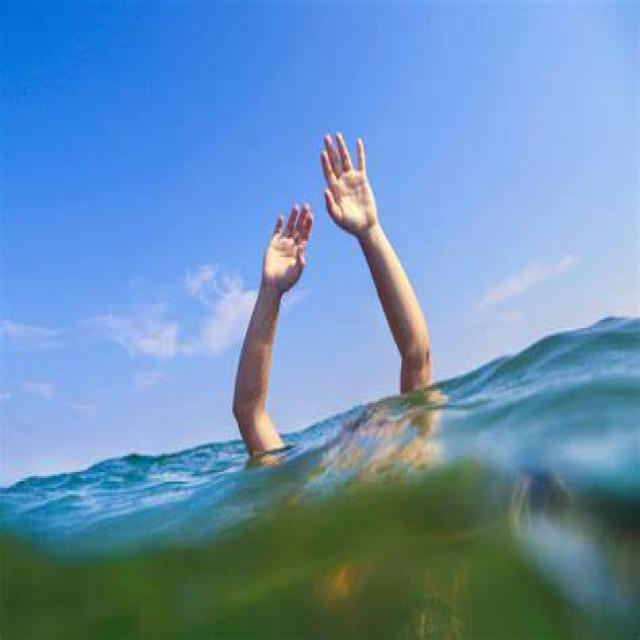drowning: (147, 48, 446, 640)
